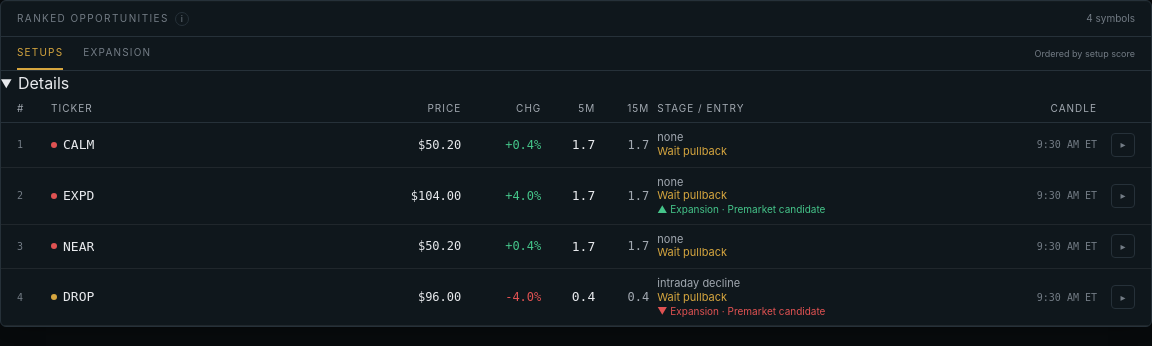
it: expansion-only symbols are visible › renders a row for a symbol that is only in the expansion universe
The image size is (1152, 346).
Expected: the text "SPY" is not shown
Click the tab "expansion".
click(117, 54)  # box top-left (83, 37), bottom-right (151, 70)
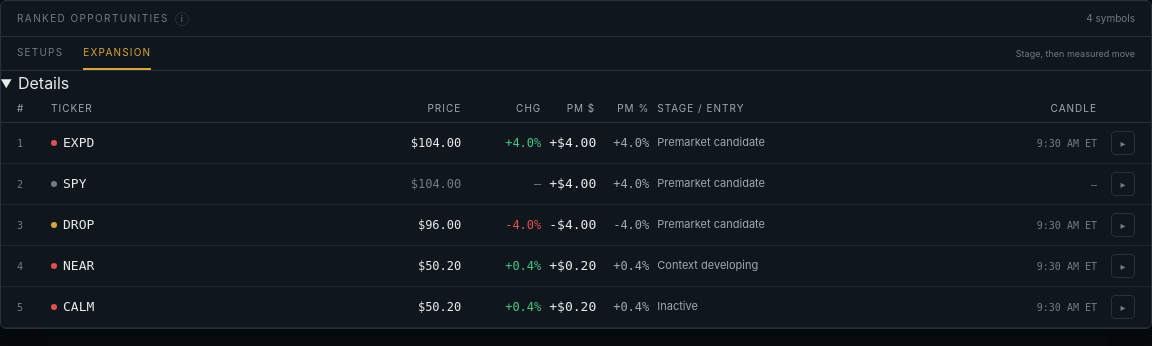
Now the text "SPY" is shown, box top-left (63, 176), bottom-right (86, 191)
